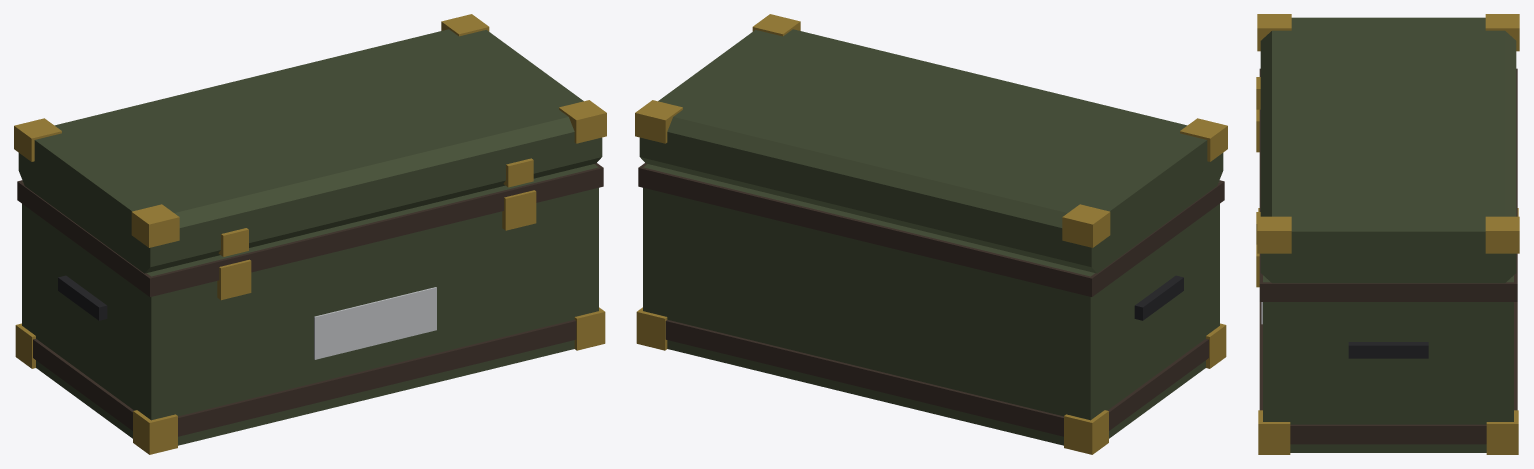
The model's file is footlocker.glb.
3 views of the same model, side by side, from view 1: azimuth 30°, elevation 25°; view 2: azimuth 150°, elevation 25°; view 3: azimuth 270°, elevation 25° (orthographic). The views are drawn at different scales.
Parts seen in each view (by area): view 1: Footlocker, Lid; view 2: Footlocker, Lid; view 3: Lid, Footlocker.
Boxes of the visible parts, x1,y1,x2,y2 form: Footlocker: [15, 163, 605, 454]; Lid: [14, 14, 606, 273]; Footlocker: [636, 163, 1226, 454]; Lid: [635, 14, 1227, 273]; Lid: [1256, 14, 1519, 283]; Footlocker: [1256, 68, 1518, 454].
Size of the model in its own units: 0.912 by 0.434 by 0.462.
